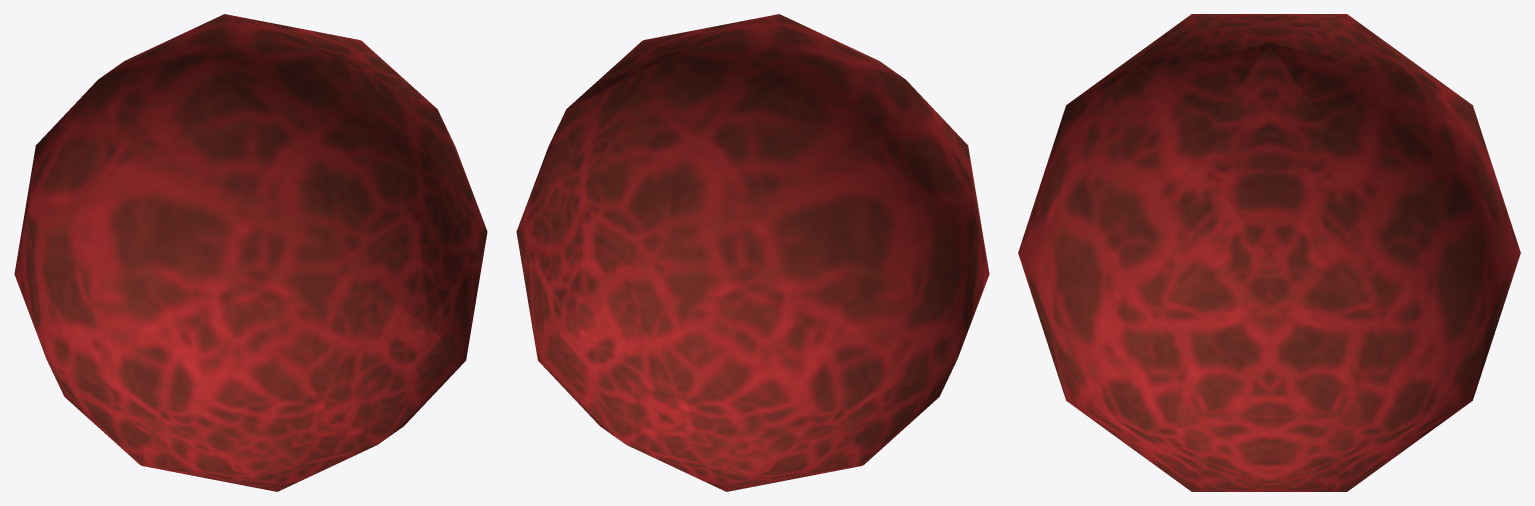
Rendered from animal_cell_world.glb.
3 views of the same model, side by side, from view 1: azimuth 30°, elevation 25°; view 2: azimuth 150°, elevation 25°; view 3: azimuth 270°, elevation 25° (orthographic). The views are drawn at different scales.
Parts seen in each view (by area): view 1: Icosphere.004; view 2: Icosphere.004; view 3: Icosphere.004.
Part boxes in pixels (bbox=[...]): Icosphere.004: bbox=[14, 14, 487, 491]; Icosphere.004: bbox=[516, 14, 989, 491]; Icosphere.004: bbox=[1018, 14, 1520, 491].
Bounding box in the file's own units: 44.47 × 46.64 × 46.76.
1 material, 1 textured.
